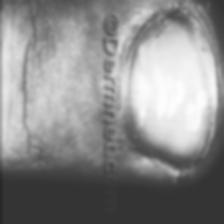Toxin: (127, 0, 214, 173)
